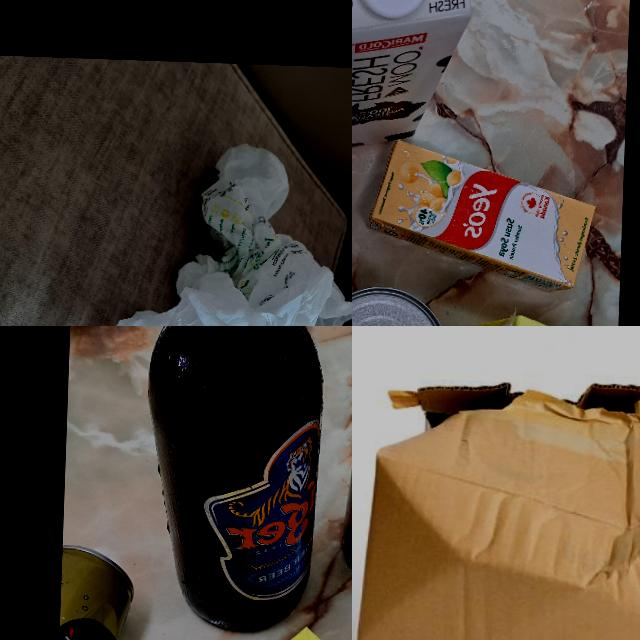caixinha: (367, 136, 596, 292), (352, 0, 474, 154)
garrafa de vidro: (137, 326, 323, 635)
lata: (53, 546, 137, 640)
papelão: (354, 371, 640, 640)
sacola plástica: (100, 136, 352, 326)
tampa plástica: (352, 0, 429, 22)
